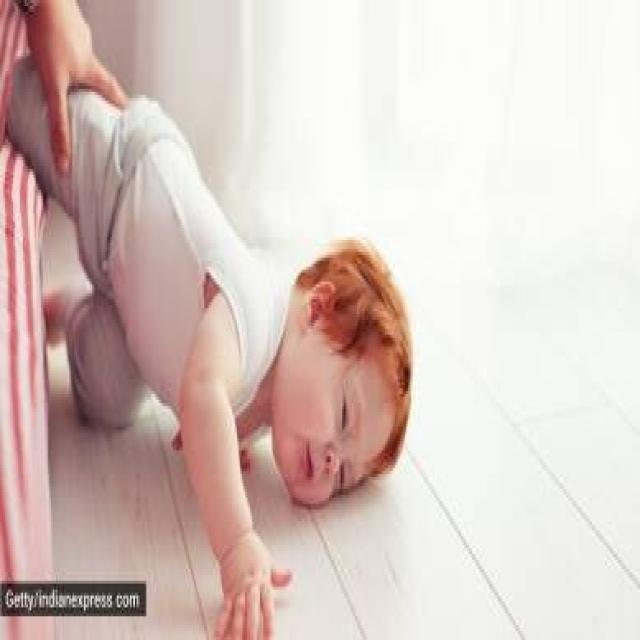non-dog: (15, 60, 414, 632)
